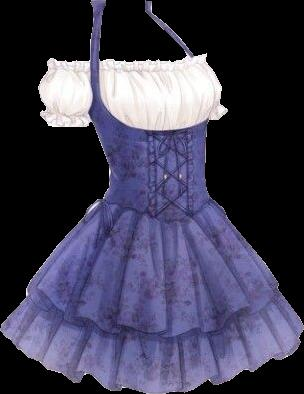Bodice: (88, 0, 215, 223)
Hemline: (0, 321, 303, 393), (25, 287, 280, 339)
Neckline: (97, 55, 216, 133), (97, 2, 190, 64)
Skirt: (0, 199, 303, 393)
Sleeve: (38, 58, 92, 126)
Sleeveline: (45, 107, 89, 115), (48, 65, 91, 73), (87, 59, 92, 84)
Waistline: (100, 199, 214, 227)
